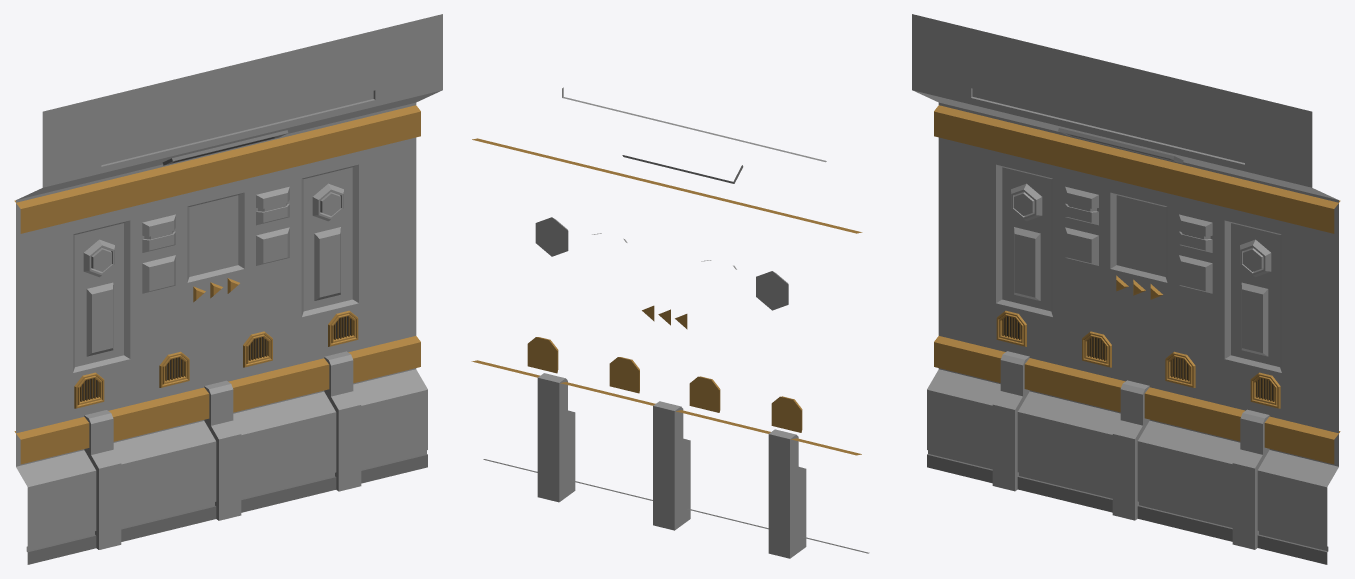
The model's file is Wall_3.glb.
The picture shows the model from 3 angles, left to right: view 1: azimuth 30°, elevation 25°; view 2: azimuth 150°, elevation 25°; view 3: azimuth 330°, elevation 25°; orthographic projection. The views are drawn at different scales.
Parts seen in each view (by area): view 1: Wall_3_Plane.056; view 2: Wall_3_Plane.056; view 3: Wall_3_Plane.056.
Part boxes in pixels (left/top/right/bottom): Wall_3_Plane.056: left=14, top=14, right=442, bottom=564; Wall_3_Plane.056: left=471, top=87, right=869, bottom=558; Wall_3_Plane.056: left=912, top=14, right=1340, bottom=564.
Size of the model in its own units: 4 by 4.43 by 0.523.
